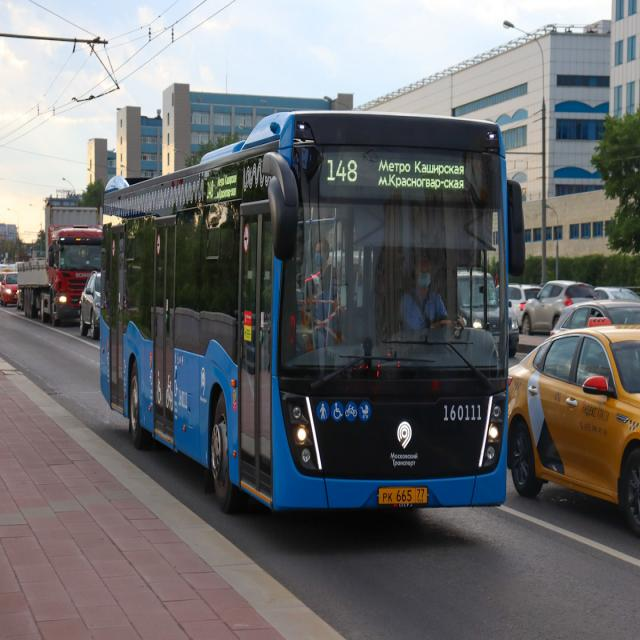number-of-bus: (326, 154, 362, 187), (207, 179, 217, 202)
